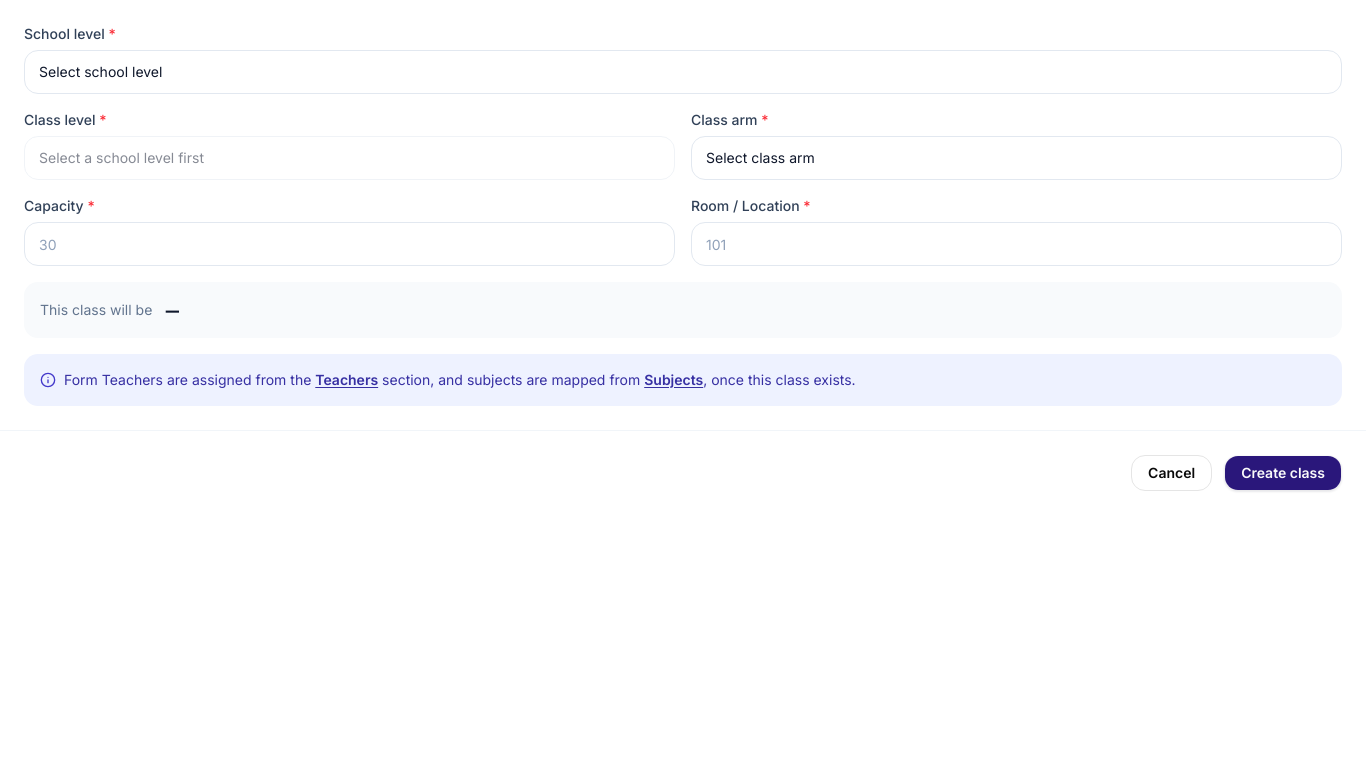
Test: CreateClassForm › required-field validation › shows a validation error for class level when not selected
Select "Primary" in the dropdown labelled "School level *": point(683, 72) x1=24 y1=50 x2=1342 y2=94
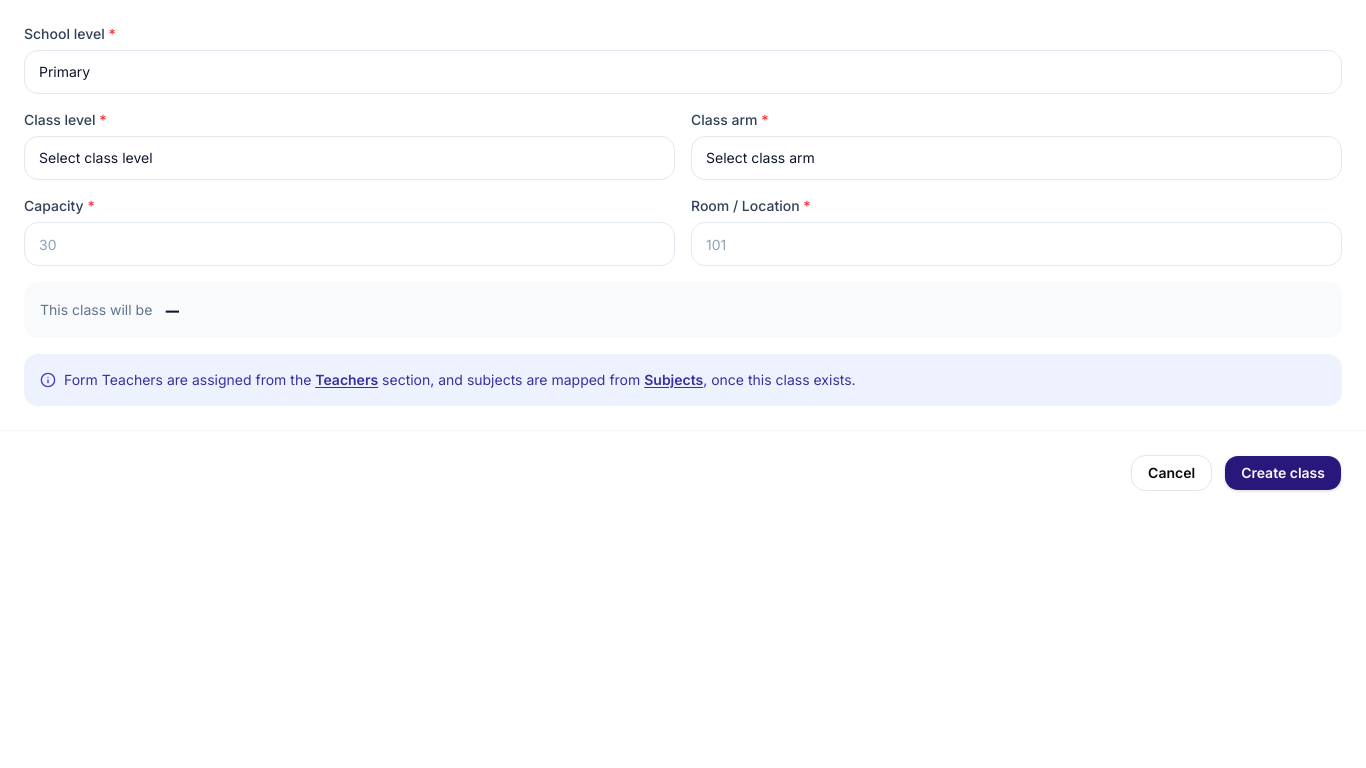
Submit the form
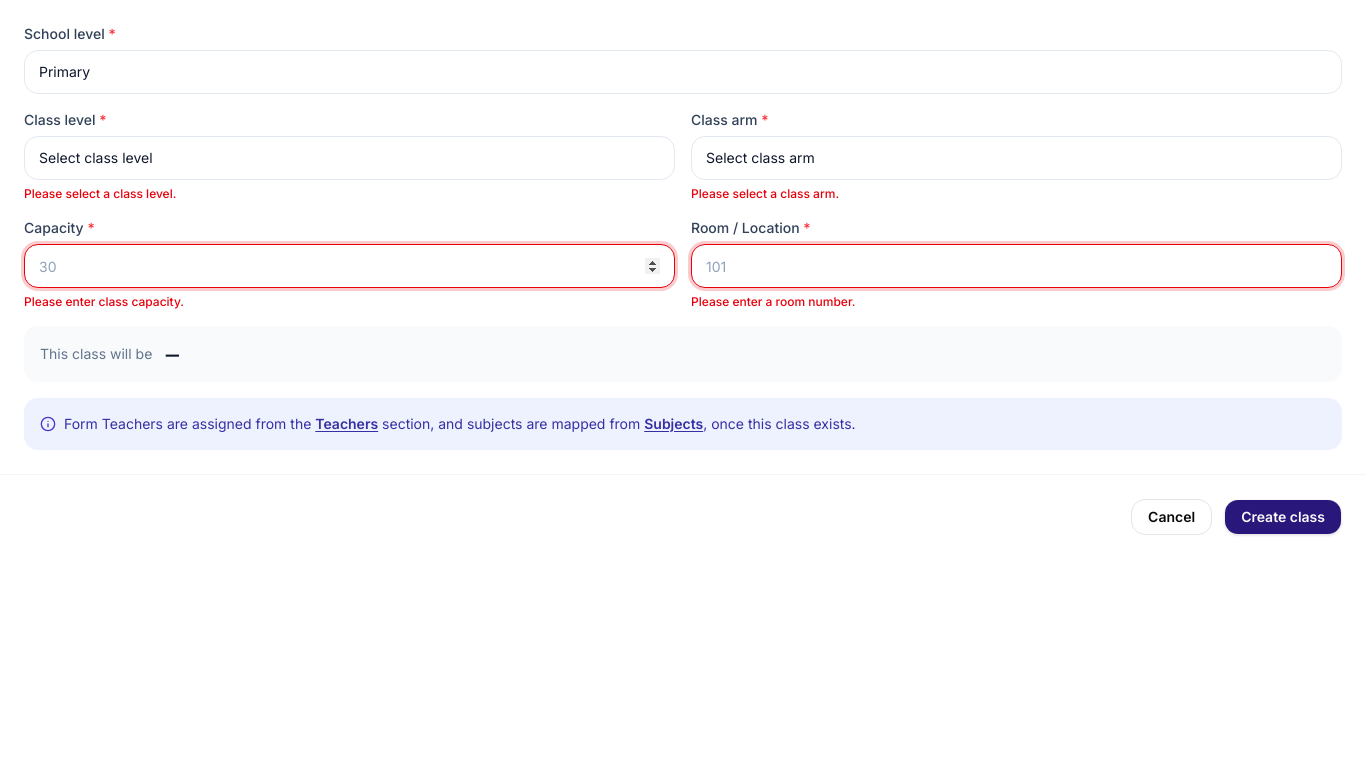
Now the text "Please select a class level." is shown, box x1=24 y1=186 x2=176 y2=201
